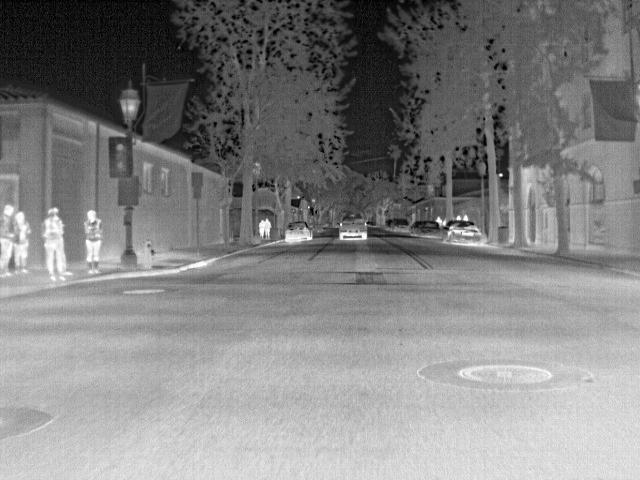car: (443, 221, 486, 247), (337, 213, 368, 241), (283, 218, 315, 244), (414, 219, 443, 240), (392, 218, 411, 234)
person: (43, 208, 69, 283), (83, 209, 102, 275), (15, 209, 32, 274), (2, 205, 16, 276), (263, 215, 272, 240), (259, 218, 268, 240)
